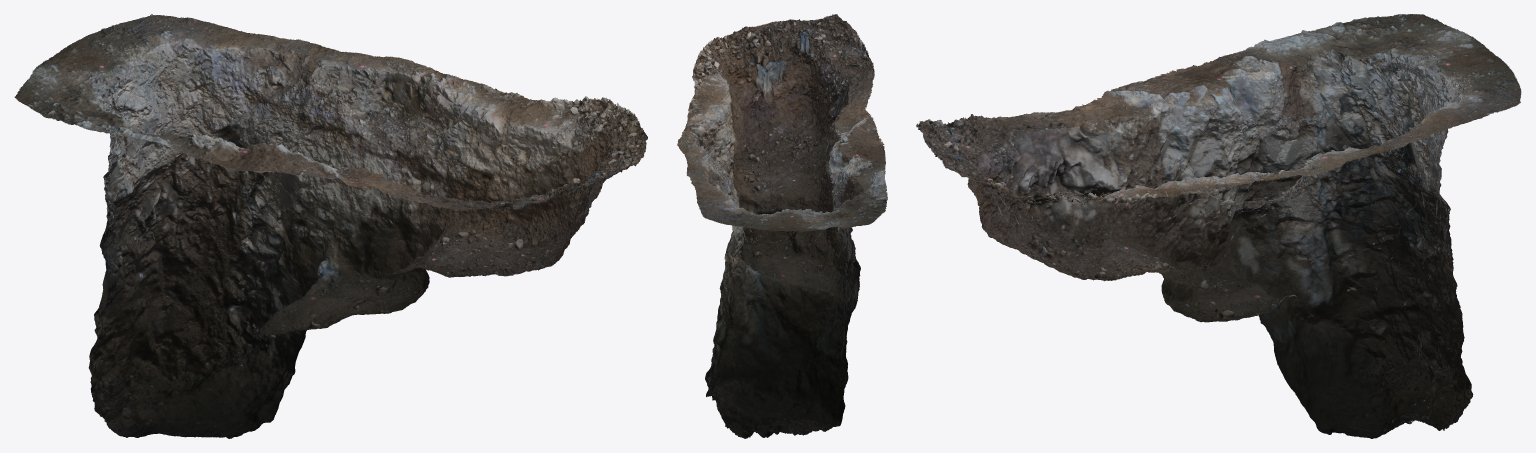
The model's file is 814_Theurot_Puits_Mine_PS19_3D.glb.
3 renders of one model, left to right at view 1: azimuth 30°, elevation 25°; view 2: azimuth 150°, elevation 25°; view 3: azimuth 270°, elevation 25°, orthographic. The views are drawn at different scales.
Visible parts, largest first — view 1: 814_Theurot_Puits_Mine_PS19_3D; view 2: 814_Theurot_Puits_Mine_PS19_3D; view 3: 814_Theurot_Puits_Mine_PS19_3D.
Part boxes in pixels (x1,y1,x2,y2): 814_Theurot_Puits_Mine_PS19_3D: (14,14,647,438); 814_Theurot_Puits_Mine_PS19_3D: (677,14,887,438); 814_Theurot_Puits_Mine_PS19_3D: (916,14,1521,438).
Bounding box in the file's own units: 5.57 × 4.83 × 7.12.
